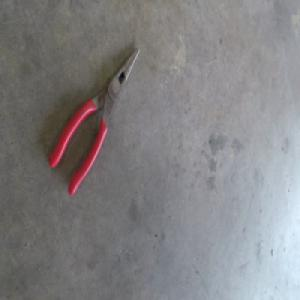Pliers: (49, 48, 140, 196)
